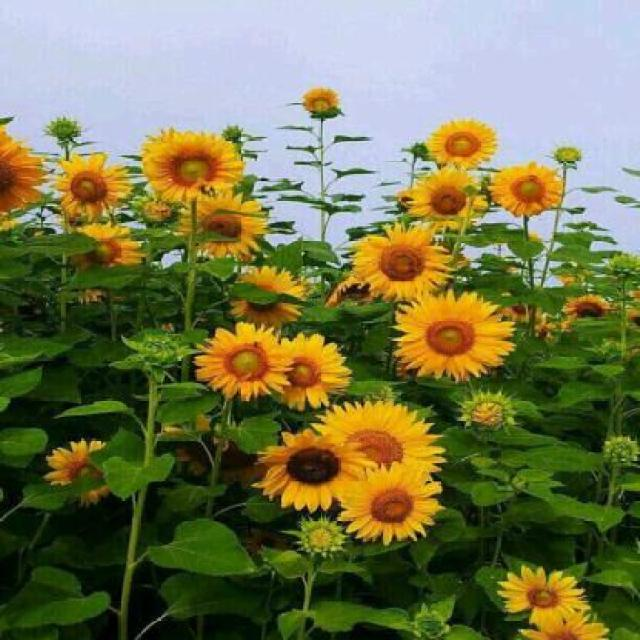sunflower: (368, 284, 542, 381), (128, 127, 252, 211), (259, 414, 363, 511), (351, 218, 455, 314), (187, 315, 295, 400), (482, 156, 583, 221), (424, 118, 507, 170)
